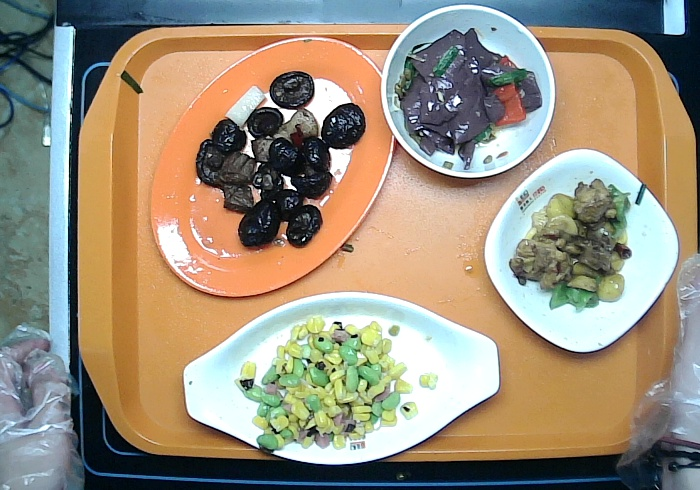NLDX-Bai_Se_Xiao_Fang_Die: (473, 141, 684, 366)
NLDX-Fan_Wan: (371, 1, 565, 191)
NLDX-Ju_Se_Pan: (137, 31, 405, 305)
NLDX-Yu_Pan: (174, 282, 509, 474)
